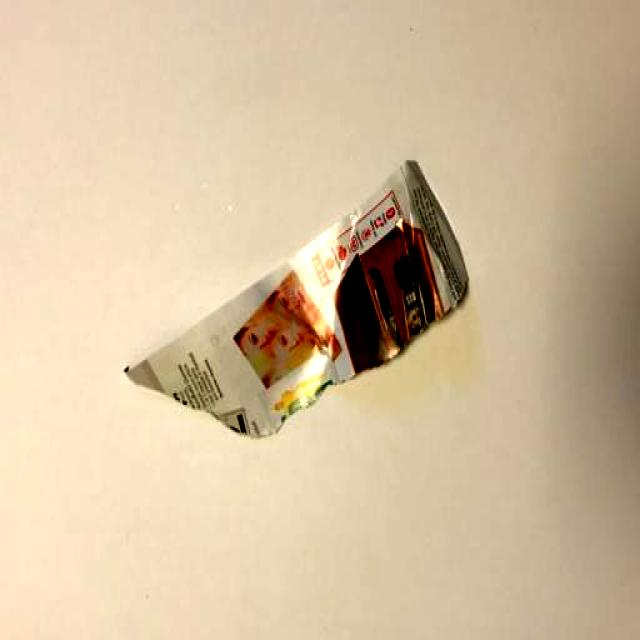Paper: (113, 144, 489, 457)
